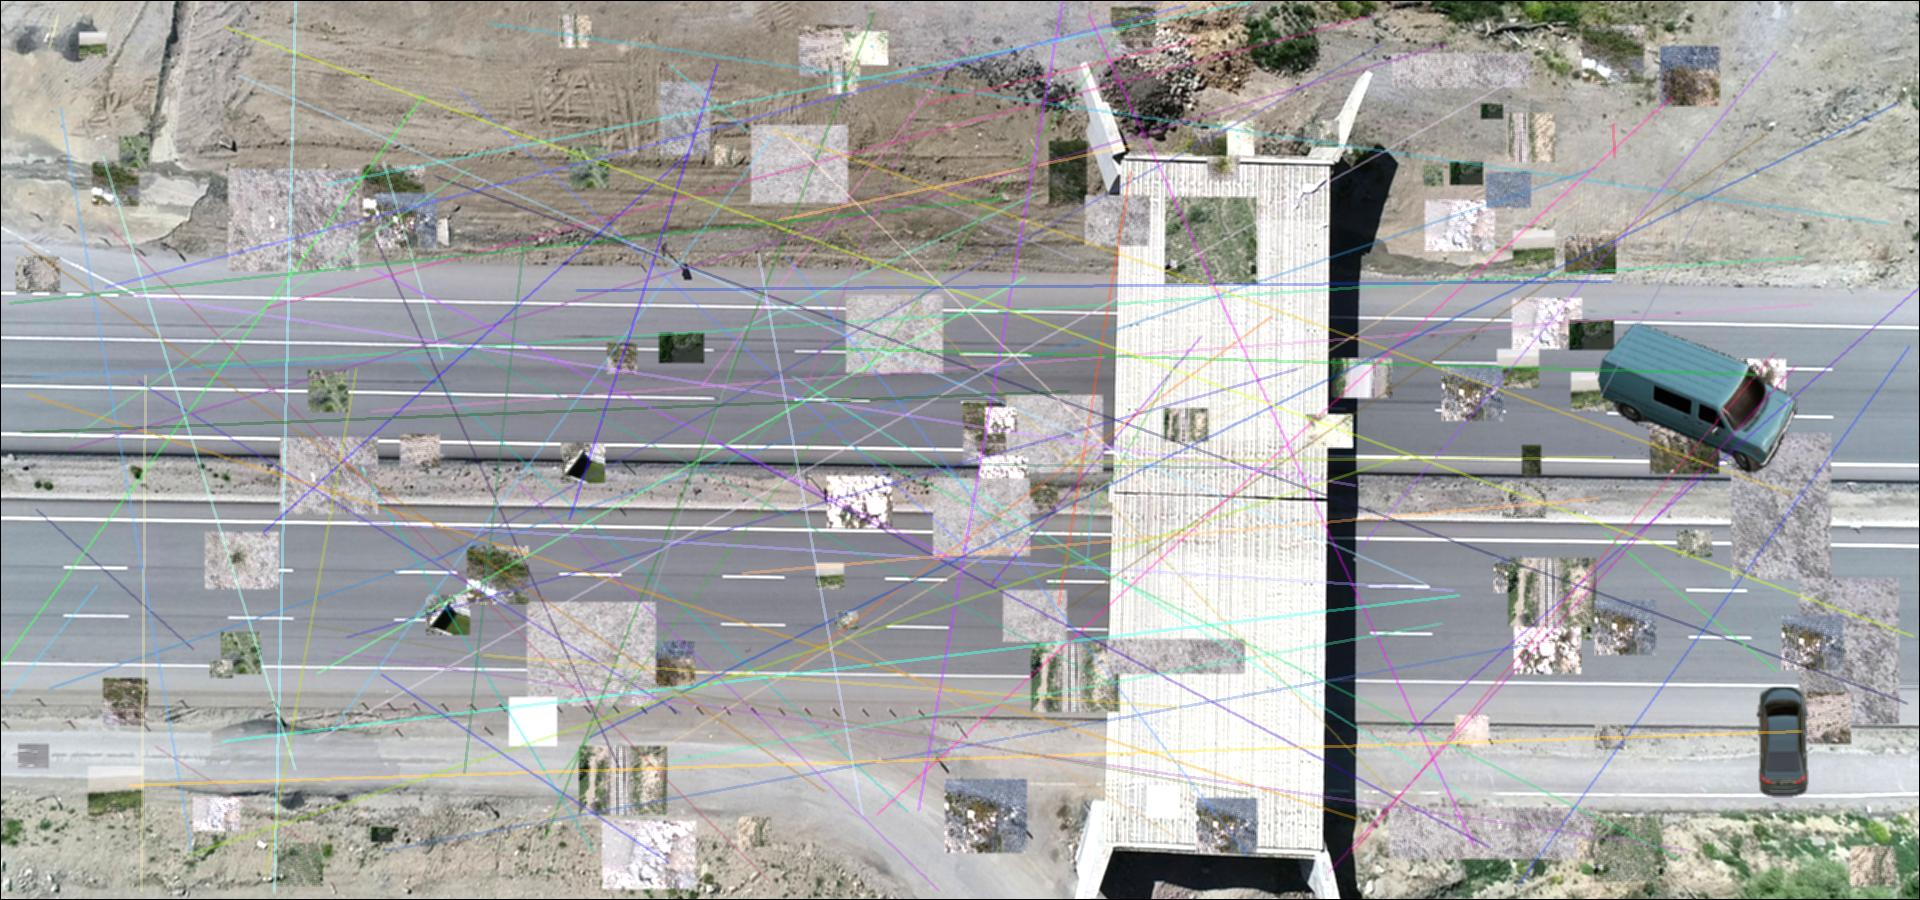arac: (1596, 320, 1798, 474), (1753, 687, 1812, 800)
